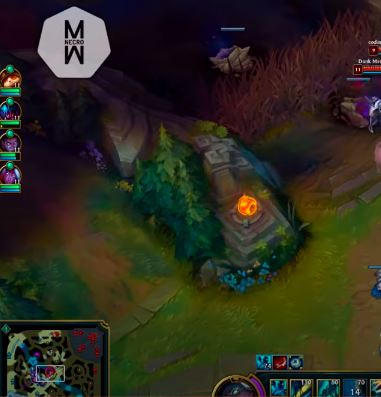bar: (350, 64, 381, 75), (367, 45, 381, 56)
